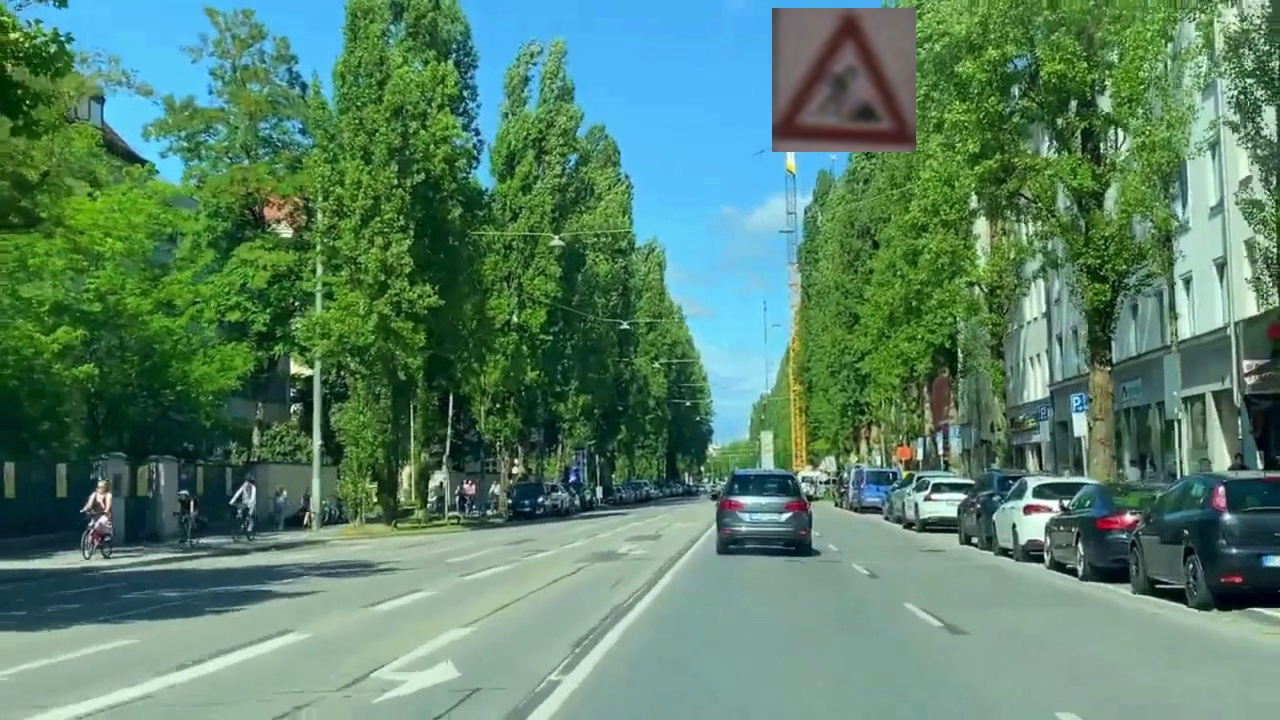Road work: (772, 8, 916, 152)
